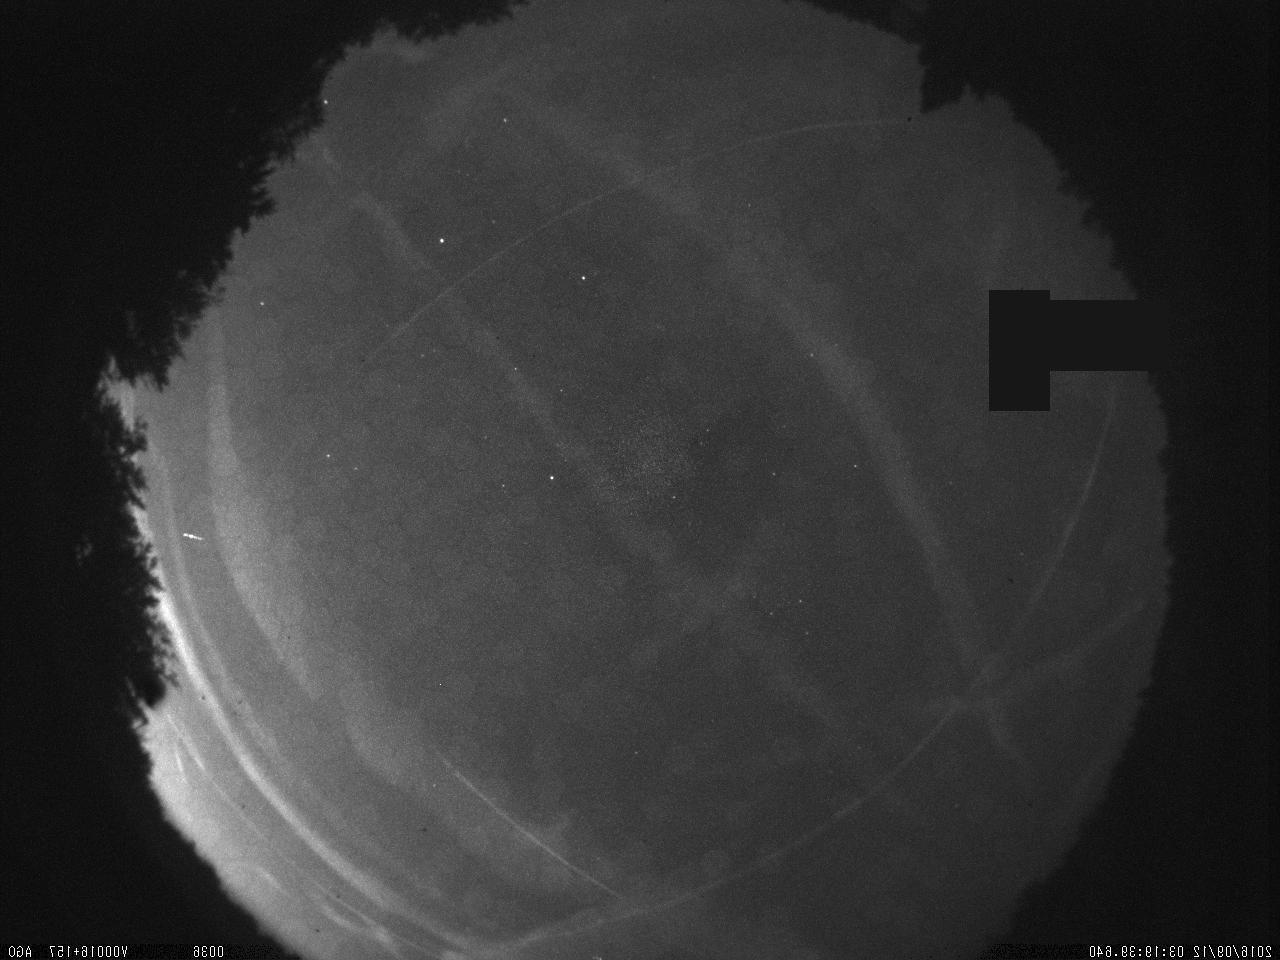meteor: (167, 520, 212, 566)
